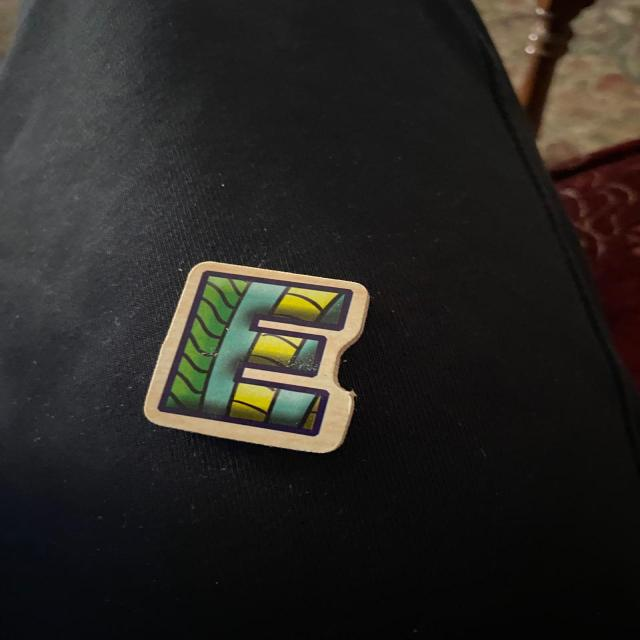E: (145, 262, 369, 453)
